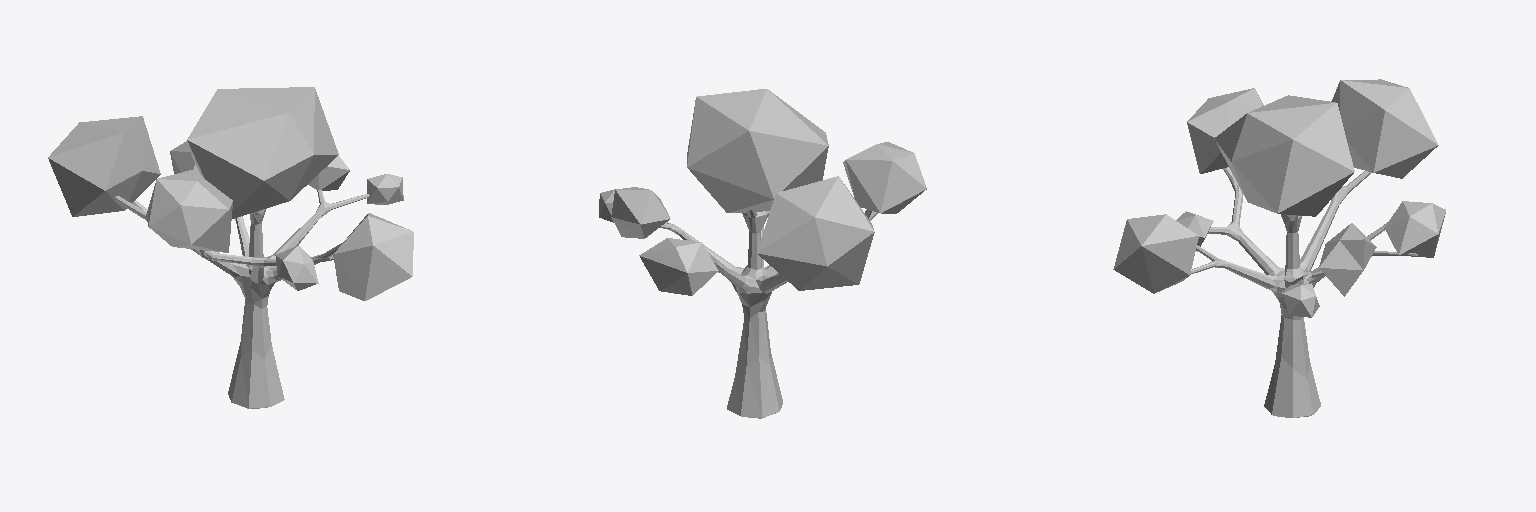
File: treeFall.obj
The picture shows the model from 3 angles: view 1: azimuth 30°, elevation 25°; view 2: azimuth 150°, elevation 25°; view 3: azimuth 270°, elevation 25°; orthographic projection.
Visible parts, largest first — view 1: Cube_Cube.001; view 2: Cube_Cube.001; view 3: Cube_Cube.001.
Part boxes in pixels (bbox=[...]): Cube_Cube.001: bbox=[48, 87, 413, 408]; Cube_Cube.001: bbox=[599, 89, 926, 418]; Cube_Cube.001: bbox=[1113, 79, 1445, 417].
Bounding box in the file's own units: 22.79 × 20.92 × 20.88.